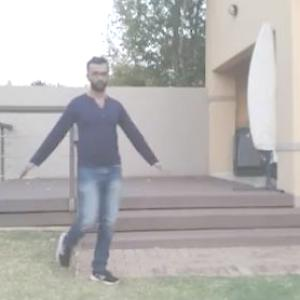land: (21, 55, 162, 285)
